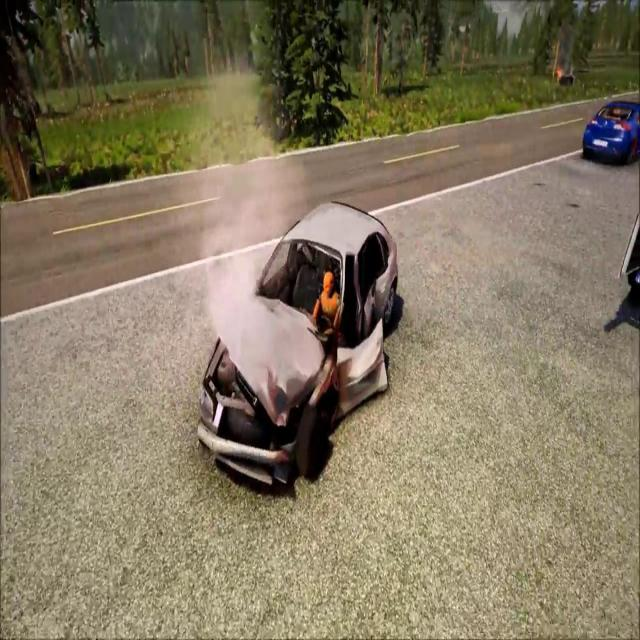accident: (194, 196, 404, 502)
